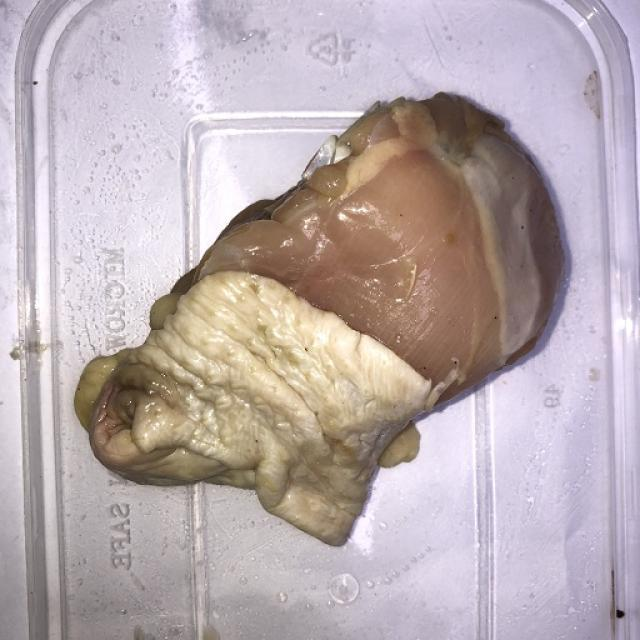chicken: (72, 90, 565, 547)
